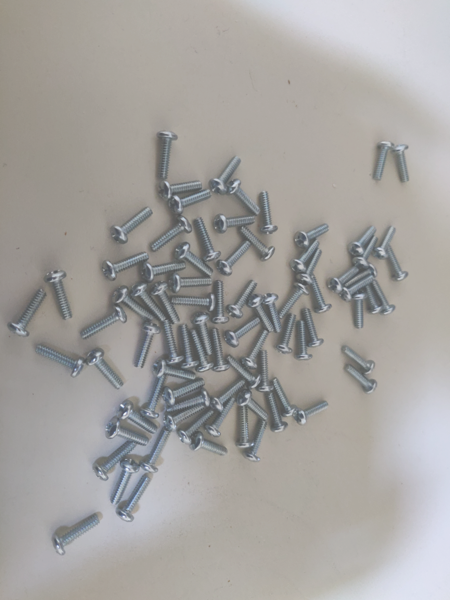shortscrew: (52, 515, 100, 556), (8, 289, 48, 337), (92, 442, 136, 482), (35, 344, 86, 378), (115, 476, 150, 524), (80, 305, 128, 340), (85, 348, 124, 390), (110, 207, 153, 244), (112, 286, 154, 323), (150, 216, 193, 252), (101, 252, 149, 282), (45, 270, 73, 320), (117, 400, 158, 434), (131, 283, 166, 322), (111, 458, 140, 505), (175, 243, 215, 277), (209, 155, 242, 196), (178, 409, 214, 446), (217, 239, 252, 277), (134, 323, 162, 370), (239, 226, 275, 262), (151, 282, 181, 325), (139, 375, 167, 421), (104, 418, 149, 446), (226, 179, 261, 215), (164, 404, 206, 433), (168, 189, 213, 216), (161, 379, 206, 406), (165, 388, 211, 414), (141, 430, 168, 474), (211, 380, 247, 413), (226, 356, 262, 389), (227, 280, 258, 318), (195, 217, 221, 262), (242, 419, 269, 462), (277, 283, 309, 319), (207, 397, 235, 438), (272, 377, 300, 418), (241, 330, 269, 370), (189, 329, 215, 372), (295, 248, 323, 287), (247, 295, 275, 334), (161, 319, 185, 364), (225, 318, 261, 348), (156, 131, 178, 179), (190, 312, 214, 356), (290, 240, 320, 275), (152, 359, 197, 382), (140, 262, 187, 283), (301, 308, 325, 349), (190, 432, 229, 457), (158, 180, 202, 202), (169, 273, 213, 295), (342, 346, 375, 375), (345, 365, 378, 394), (295, 224, 331, 249), (180, 324, 200, 369), (352, 237, 378, 271), (275, 313, 296, 355), (214, 214, 256, 235), (373, 142, 395, 182), (211, 328, 231, 372), (172, 293, 217, 312), (348, 227, 377, 256), (268, 392, 288, 434), (236, 405, 255, 449), (328, 267, 360, 293), (293, 402, 329, 425), (260, 190, 278, 235), (212, 281, 230, 325), (373, 225, 396, 259), (294, 321, 313, 361), (264, 293, 283, 333), (374, 280, 395, 316), (388, 245, 408, 282), (393, 143, 410, 183), (259, 351, 275, 392), (353, 291, 368, 329), (367, 287, 383, 315)
